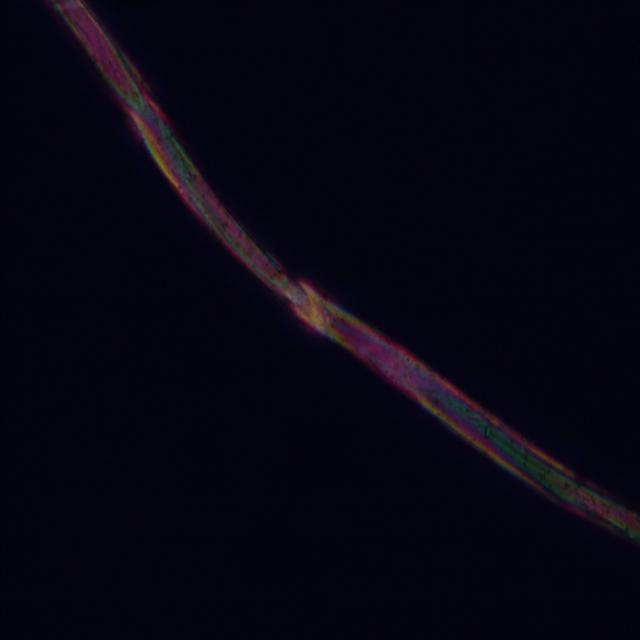Microfibre: (51, 0, 640, 545)
